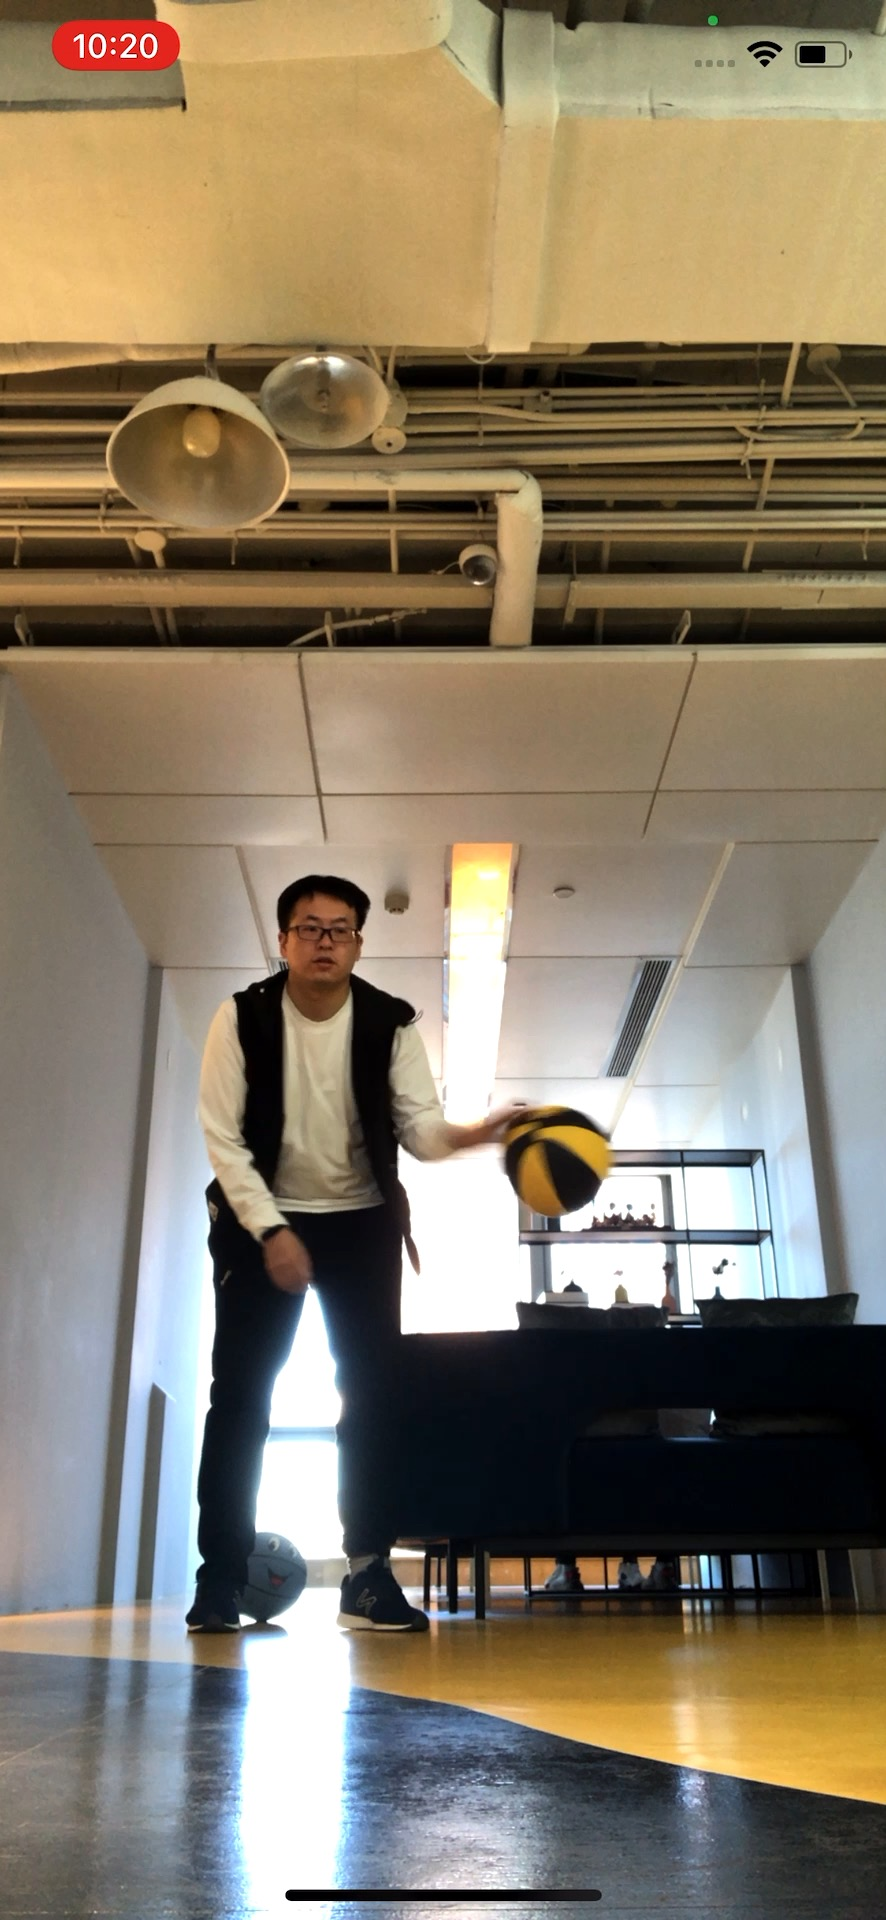ball: (504, 1104, 612, 1220), (233, 1536, 310, 1625)
